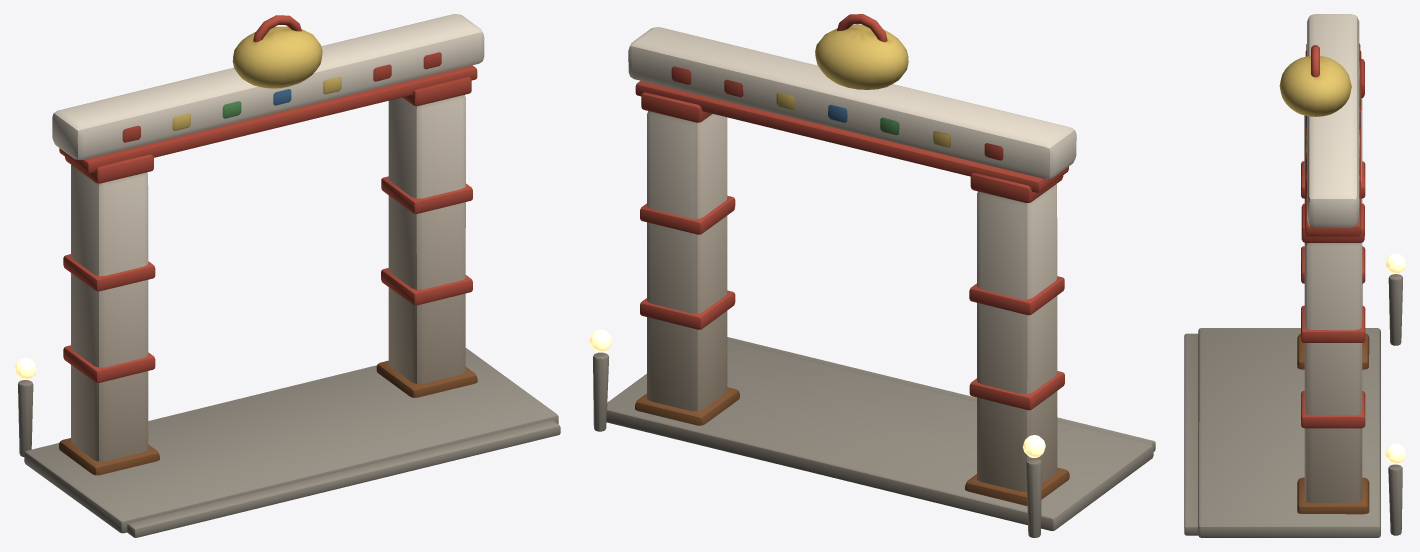
The picture shows the model from 3 angles, left to right: view 1: azimuth 30°, elevation 25°; view 2: azimuth 150°, elevation 25°; view 3: azimuth 270°, elevation 25°; orthographic projection. The views are drawn at different scales.
Visible parts, largest first — view 1: gate_115d32b6; view 2: gate_115d32b6; view 3: gate_115d32b6.
Boxes of the visible parts, x1=… form: gate_115d32b6: x1=14, y1=14, x2=560, y2=537; gate_115d32b6: x1=589, y1=14, x2=1155, y2=537; gate_115d32b6: x1=1184, y1=14, x2=1405, y2=537.
Bounding box in the file's own units: 5.43 × 4.97 × 2.55.
